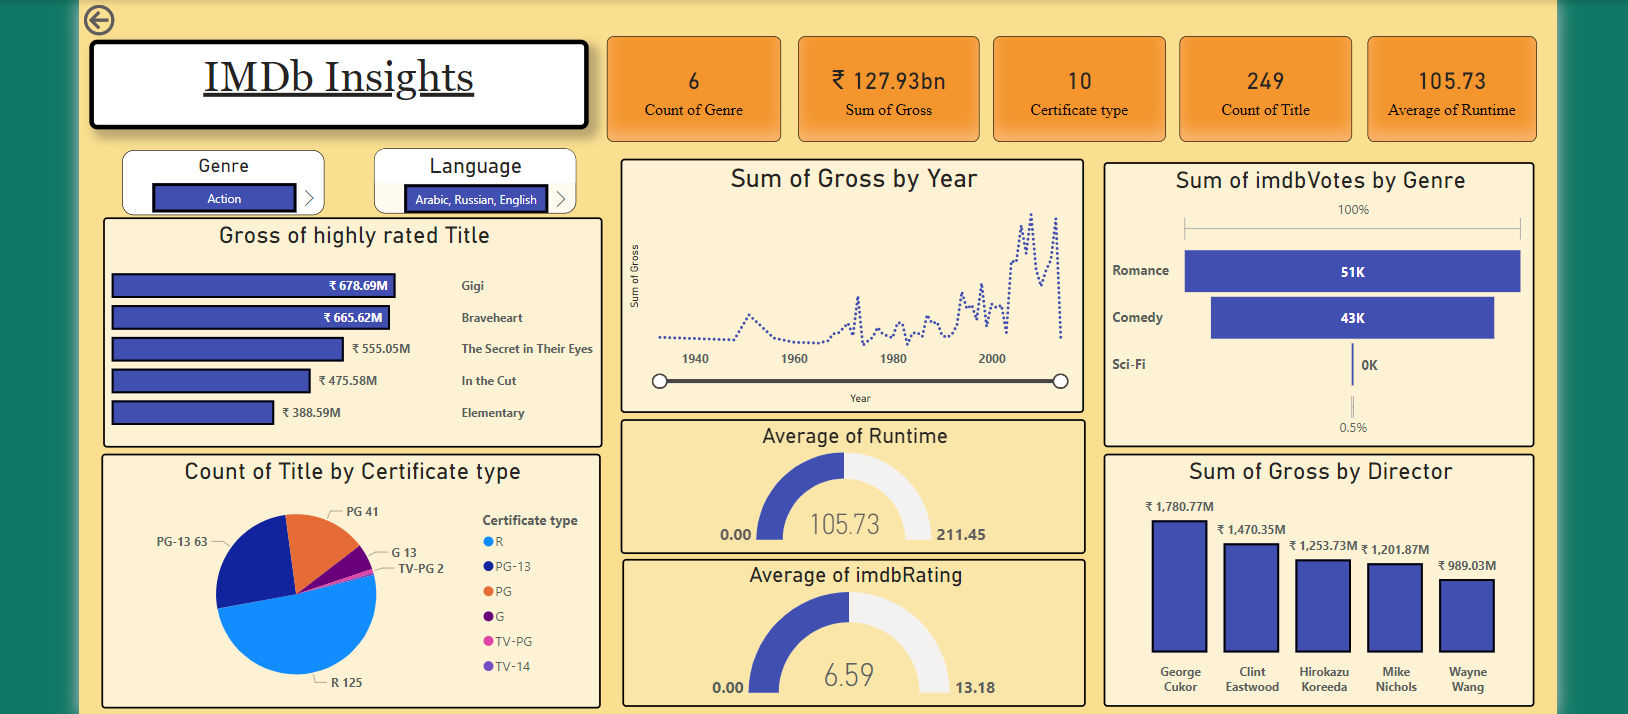

The page's visual inventory and layout, read from the dashboard file:
{"tool":"powerbi","page":{"name":"Dashboard","canvas":[1500,727],"ordinal":2},"visuals":[{"type":"textbox","box":[10.7,41,506.8,91],"z":0},{"type":"gauge","fields":{"Y":["Final Dataset.imdbRating"]},"box":[551.5,567,469.9,150],"z":1000},{"type":"pieChart","fields":{"Category":["Final Dataset.Rated"],"Y":["Final Dataset.Title"]},"box":[23.2,460.4,506.8,258.8],"z":2000},{"type":"barChart","title":"Gross of highly rated Title","fields":{"Y":["Final Dataset.Gross"],"Category":["Final Dataset.Title"]},"box":[25,221.3,506.8,233.8],"z":3000},{"type":"columnChart","fields":{"Category":["Final Dataset.Director"],"Y":["Final Dataset.Gross"]},"box":[1040.4,460.4,437.2,257],"z":4000},{"type":"lineChart","fields":{"Category":["Final Dataset.Released.Variation.Date Hierarchy.Year"],"Y":["Final Dataset.Gross"]},"box":[549.3,161.1,469.9,258.1],"z":5000},{"type":"slicer","title":"Genre","fields":{"Values":["Final Dataset.Genre"]},"box":[44.6,151.7,205.2,66],"z":6000},{"type":"slicer","title":"Language","fields":{"Values":["Final Dataset.Language"]},"box":[299.8,149.9,205.2,66],"z":7000},{"type":"funnel","fields":{"Category":["Final Dataset.Genre"],"Y":["Final Dataset.imdbVotes"]},"box":[1040.4,164.2,437.2,289.1],"z":8000},{"type":"gauge","fields":{"Y":["Final Dataset.Runtime"]},"box":[549.3,425.8,472.1,136.8],"z":9000},{"type":"card","fields":{"Values":["Final Dataset.Genre"]},"box":[535.4,37.5,176.7,107.1],"z":10000},{"type":"actionButton","box":[0,0,51,40.8],"z":11000},{"type":"card","fields":{"Values":["Final Dataset.Gross"]},"box":[729.9,37.5,183.8,107.1],"z":12000},{"type":"card","fields":{"Values":["Final Dataset.Certificate type"]},"box":[928,37.5,174.9,107.1],"z":13000},{"type":"card","fields":{"Values":["Final Dataset.Title"]},"box":[1117.2,37.5,174.9,107.1],"z":14000},{"type":"card","fields":{"Values":["Final Dataset.Runtime"]},"box":[1308.1,37.5,171.3,107.1],"z":15000},{"type":"actionButton","box":[0,0,51,40.8],"z":16000}]}

Visuals, with their boxes on the page's 1500x727 design canvas (x1, y1, x2, y2). These are canvas units, not pixel positions in the 1628x714 screenshot, which may show the page scaled, cropped or inside an application window:
textbox: 11, 41, 518, 132
gauge - Final Dataset.imdbRating: 552, 567, 1021, 717
pieChart - Final Dataset.Rated x Final Dataset.Title: 23, 460, 530, 719
"Gross of highly rated Title" barChart: 25, 221, 532, 455
columnChart - Final Dataset.Director x Final Dataset.Gross: 1040, 460, 1478, 717
lineChart - Final Dataset.Released.Variation.Date Hierarchy.Year x Final Dataset.Gross: 549, 161, 1019, 419
"Genre" slicer: 45, 152, 250, 218
"Language" slicer: 300, 150, 505, 216
funnel - Final Dataset.Genre x Final Dataset.imdbVotes: 1040, 164, 1478, 453
gauge - Final Dataset.Runtime: 549, 426, 1021, 563
card - Final Dataset.Genre: 535, 38, 712, 145
actionButton: 0, 0, 51, 41
card - Final Dataset.Gross: 730, 38, 914, 145
card - Final Dataset.Certificate type: 928, 38, 1103, 145
card - Final Dataset.Title: 1117, 38, 1292, 145
card - Final Dataset.Runtime: 1308, 38, 1479, 145
actionButton: 0, 0, 51, 41
